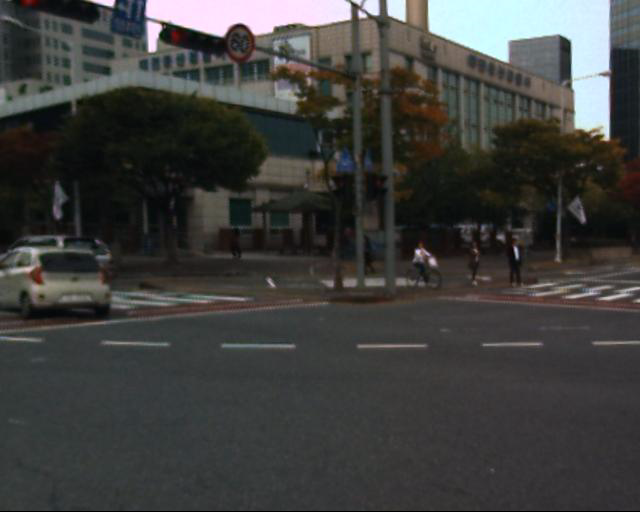person: (454, 233, 488, 292), (402, 228, 436, 286), (494, 231, 526, 292), (355, 224, 380, 274)
